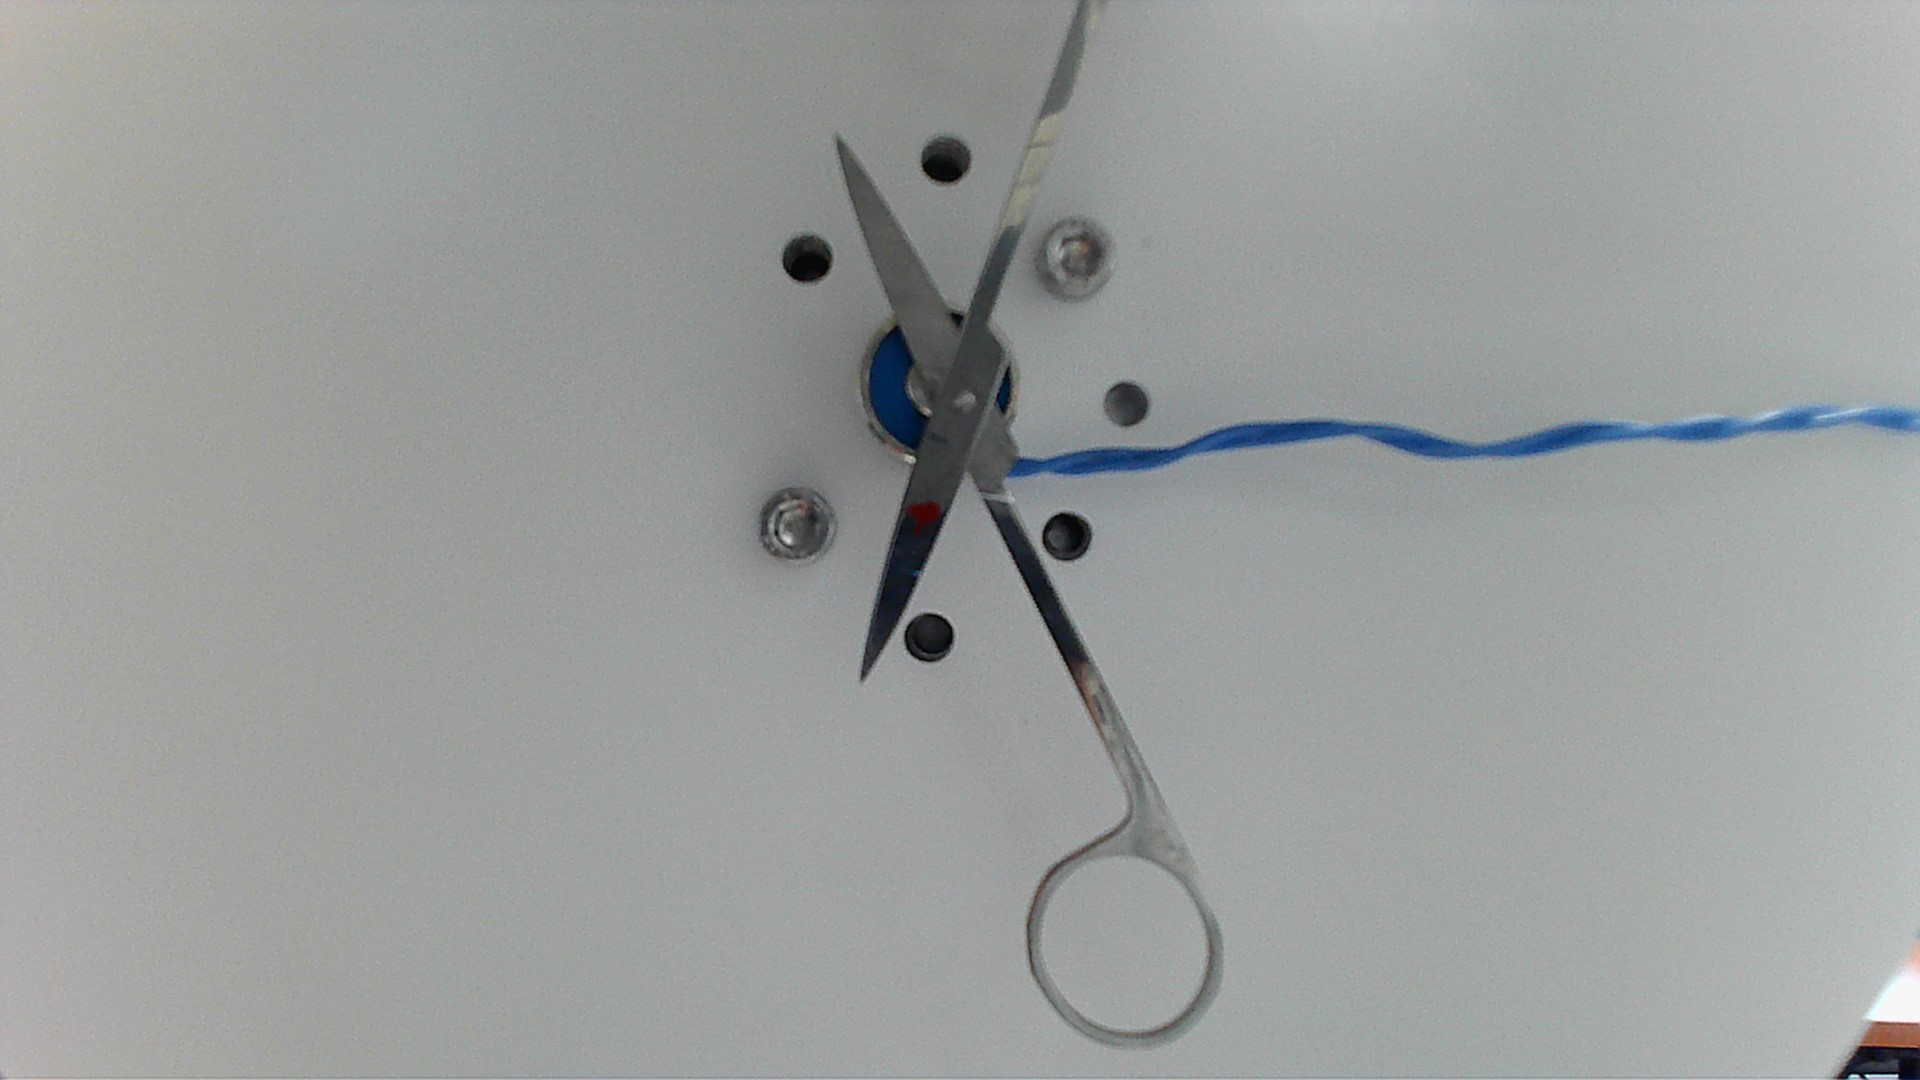Stain: (905, 492, 949, 533)
